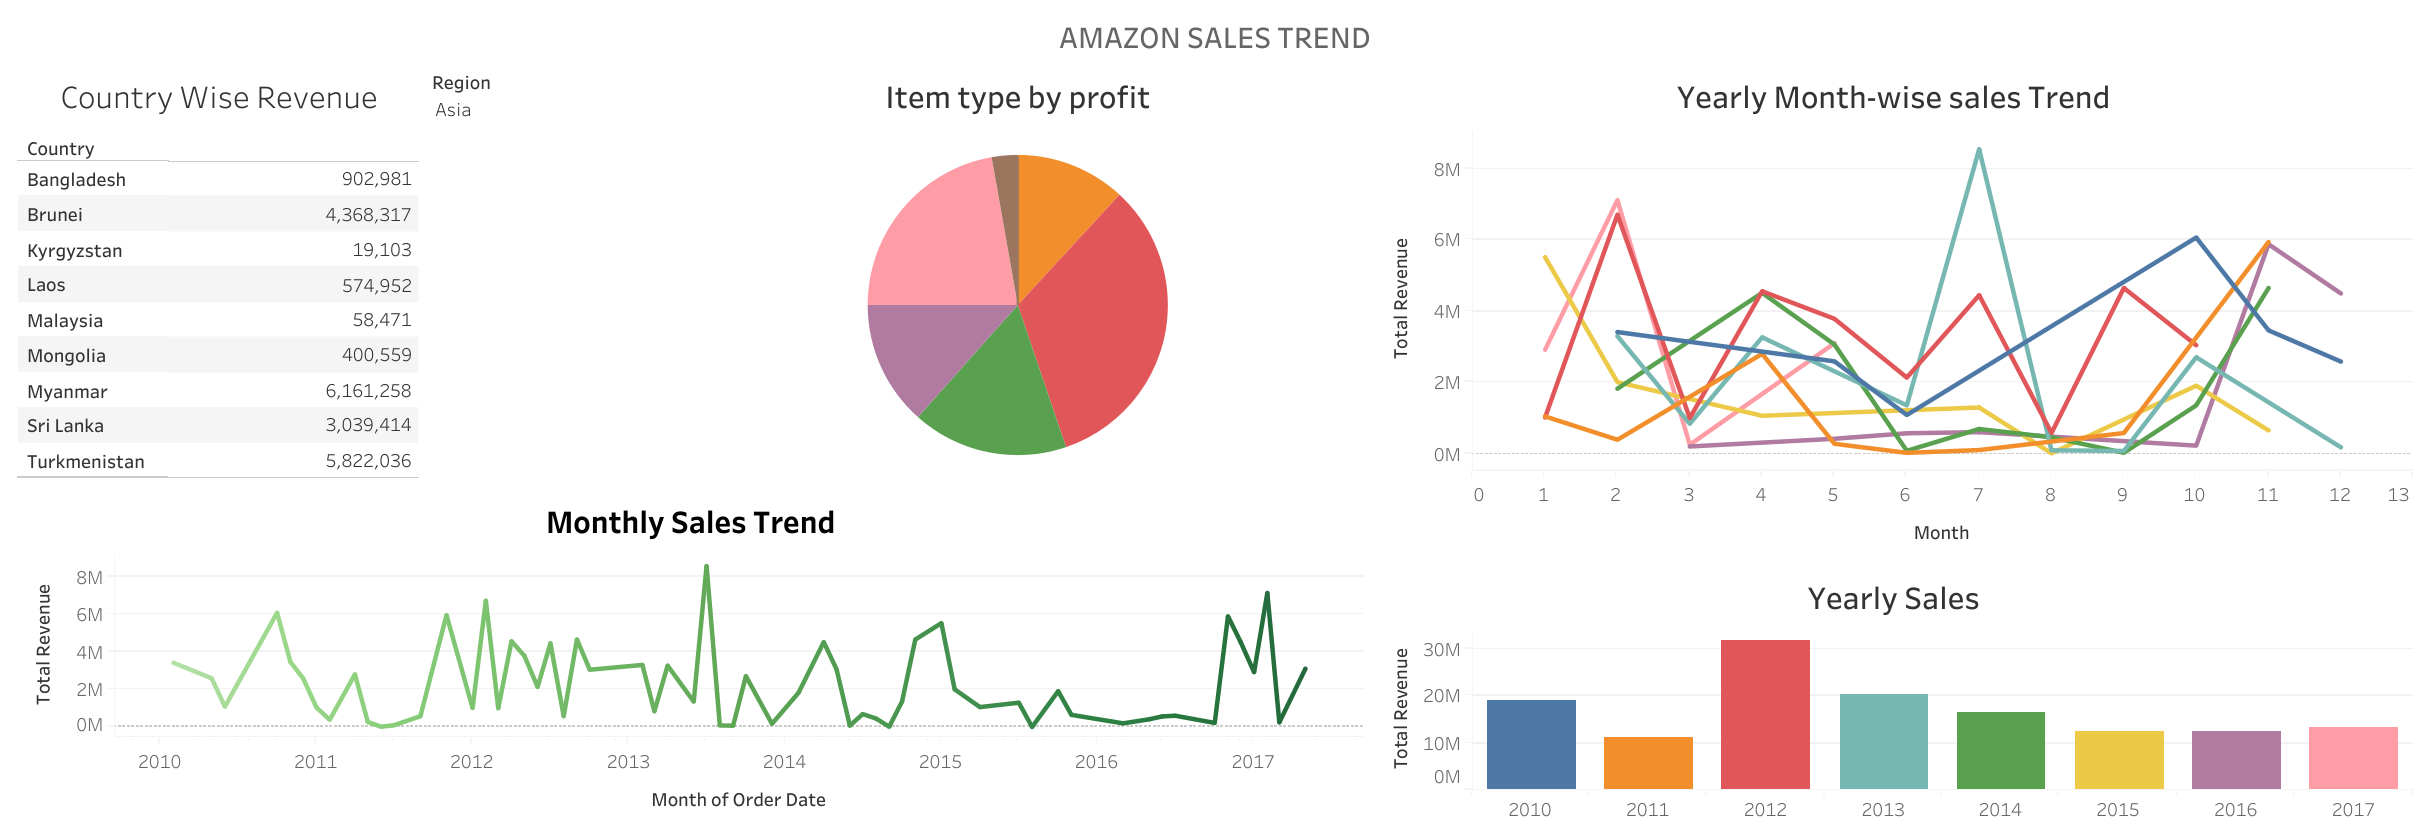

This screenshot's page, from the dashboard's own definition file:
{"tool":"tableau","page":{"name":"Dashboard 1","canvas":[1000,1000],"units":"permille","ordinal":0},"visuals":[{"type":"title","box":[4.9,10.6,990.1,42.5]},{"type":"worksheet","title":"Sheet 4","mark":"Automatic","rows":["Country"],"box":[4.9,53.1,170.4,517.2]},{"type":"filter","title":"Sheet 4","param":"[federated.1cfu2ve0a817iy1fjx37806ebi94].[none:Region:nk]","box":[175.3,53.1,98.8,517.2]},{"type":"worksheet","title":"Sheet 5","mark":"Pie","box":[274.1,53.1,289.5,517.2]},{"type":"worksheet","title":"Sheet 1","mark":"Line","rows":["Total Revenue"],"cols":["Order Date"],"box":[563.6,53.1,431.5,443.6]},{"type":"worksheet","title":"Sheet 3","mark":"Bar","rows":["Total Revenue"],"cols":["Order Date"],"box":[563.6,496.7,431.5,492.7]},{"type":"worksheet","title":"Sheet 2","mark":"Automatic","rows":["Total Revenue"],"cols":["Order Date"],"box":[4.9,570.3,558.6,419.1]}]}

Visuals, with their boxes on the dashboard's canvas, which has no fixed pixel size, in thousandths of its width and height (x1, y1, x2, y2). These are canvas units, not pixel positions in the 2429x839 screenshot, which may show the page scaled, cropped or inside an application window:
title: left=5, top=11, right=995, bottom=53
"Sheet 4" worksheet: left=5, top=53, right=175, bottom=570
"Sheet 4" filter: left=175, top=53, right=274, bottom=570
"Sheet 5" worksheet (Pie marks): left=274, top=53, right=564, bottom=570
"Sheet 1" worksheet (Line marks): left=564, top=53, right=995, bottom=497
"Sheet 3" worksheet (Bar marks): left=564, top=497, right=995, bottom=989
"Sheet 2" worksheet: left=5, top=570, right=564, bottom=989
